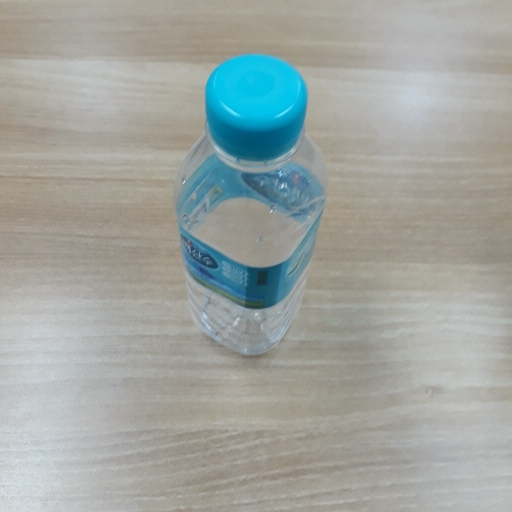Plastic_0: (170, 52, 327, 362)
